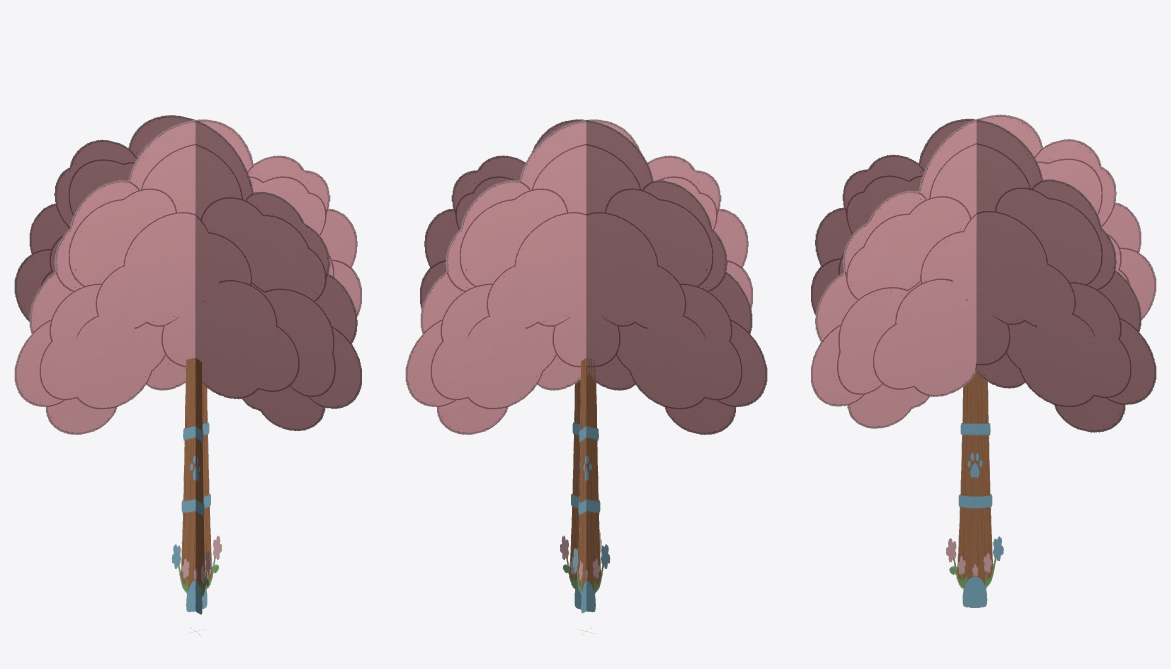
Rendered from nyanisyarud-tree-pink.glb.
The picture shows the model from 3 angles, left to right: view 1: azimuth 30°, elevation 25°; view 2: azimuth 150°, elevation 25°; view 3: azimuth 270°, elevation 25°; orthographic projection.
Size of the model in its own units: 1.8 by 2.51 by 1.56.
2 materials, 2 textured.
